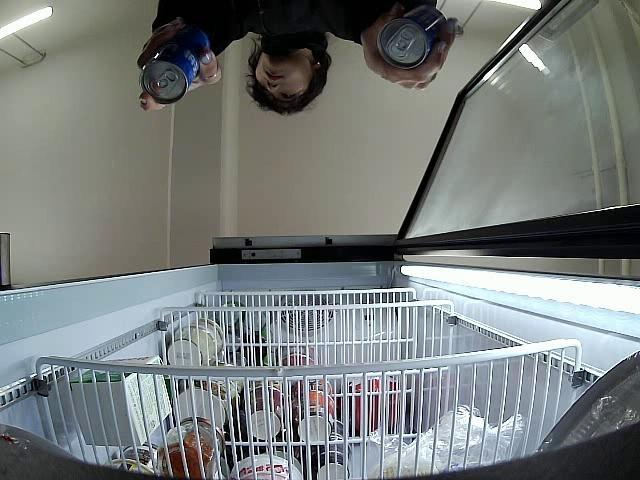15_letsbe: (140, 32, 208, 103), (377, 7, 448, 70)
